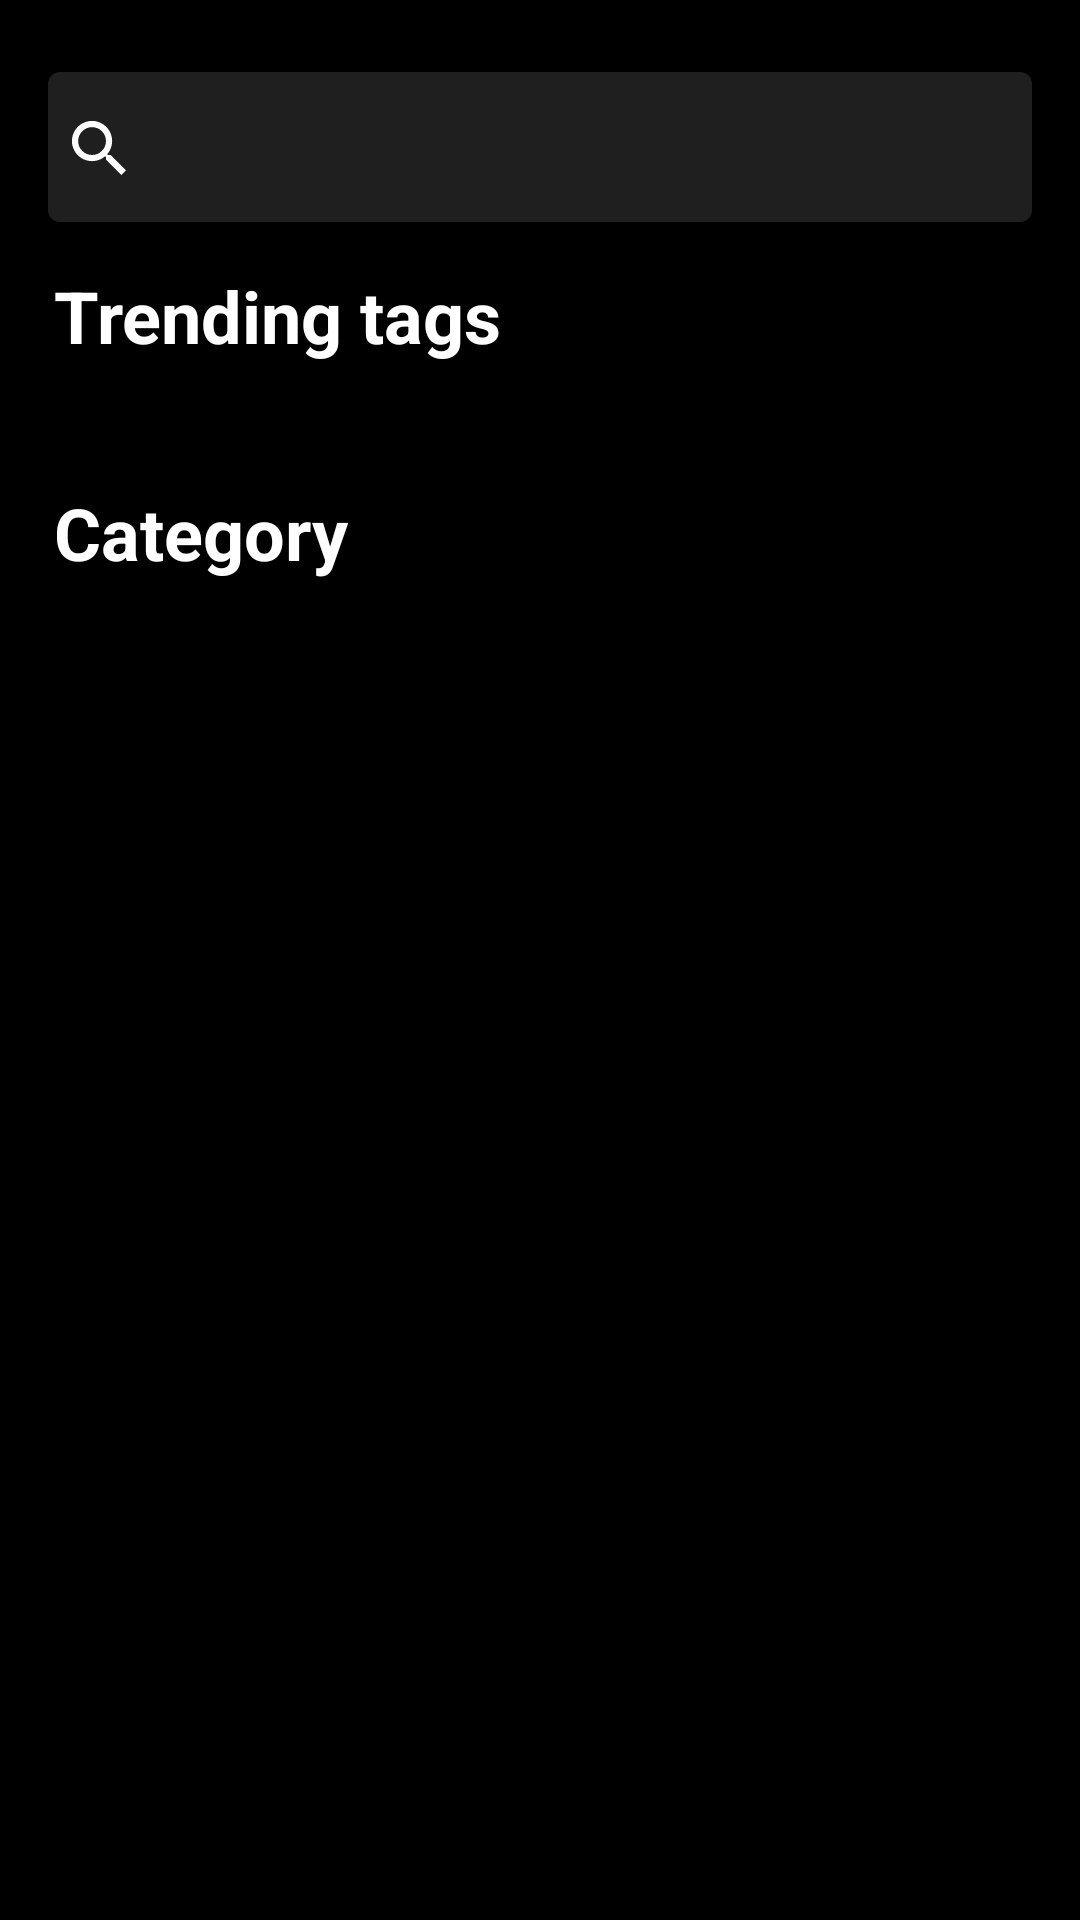

Screen size 1080x1920. Icon name, then its center in pixels as point (x, y):
search: point (99, 148)
